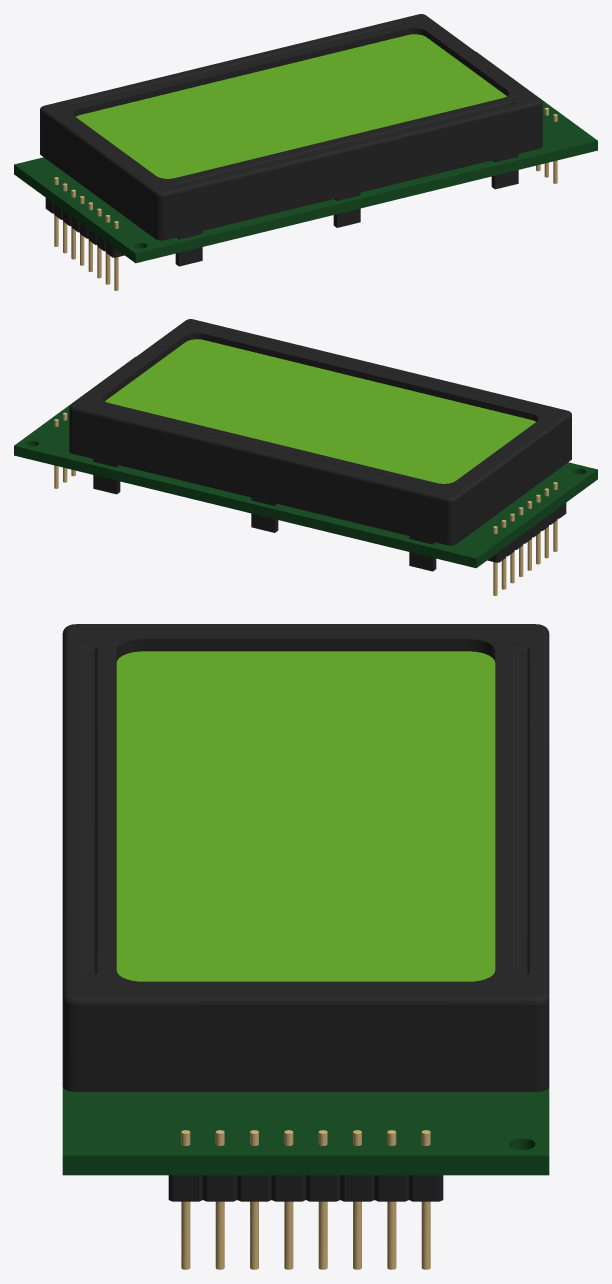
Rendered from kc-nhd-0420h1z.glb.
3 views of the same model, one above another, from view 1: azimuth 30°, elevation 25°; view 2: azimuth 150°, elevation 25°; view 3: azimuth 270°, elevation 25° (orthographic). The views are drawn at different scales.
Parts seen in each view (by area): view 1: 0_0_0_0, 0.16666666666666666_0.4166666666666667_0_0, 0_0.08333333333333333_0_0, 0.75_0.5_0.25_0.9; view 2: 0_0_0_0, 0.16666666666666666_0.4166666666666667_0_0, 0_0.08333333333333333_0_0, 0.75_0.5_0.25_0.9; view 3: 0.16666666666666666_0.4166666666666667_0_0, 0_0_0_0, 0_0.08333333333333333_0_0, 0.75_0.5_0.25_0.9.
Boxes of the visible parts, x1,y1,x2,y2 form: 0_0_0_0: (40,14,542,266); 0.16666666666666666_0.4166666666666667_0_0: (76,34,506,178); 0_0.08333333333333333_0_0: (14,51,597,263); 0.75_0.5_0.25_0.9: (54,107,557,290); 0_0_0_0: (69,319,571,571); 0.16666666666666666_0.4166666666666667_0_0: (105,339,535,483); 0_0.08333333333333333_0_0: (14,356,597,568); 0.75_0.5_0.25_0.9: (54,412,557,595); 0.16666666666666666_0.4166666666666667_0_0: (116,651,495,981); 0_0_0_0: (62,624,549,1201); 0_0.08333333333333333_0_0: (62,1087,549,1175); 0.75_0.5_0.25_0.9: (181,1130,430,1269).
Bounding box in the file's own units: 7.9 × 1.87 × 3.6.
